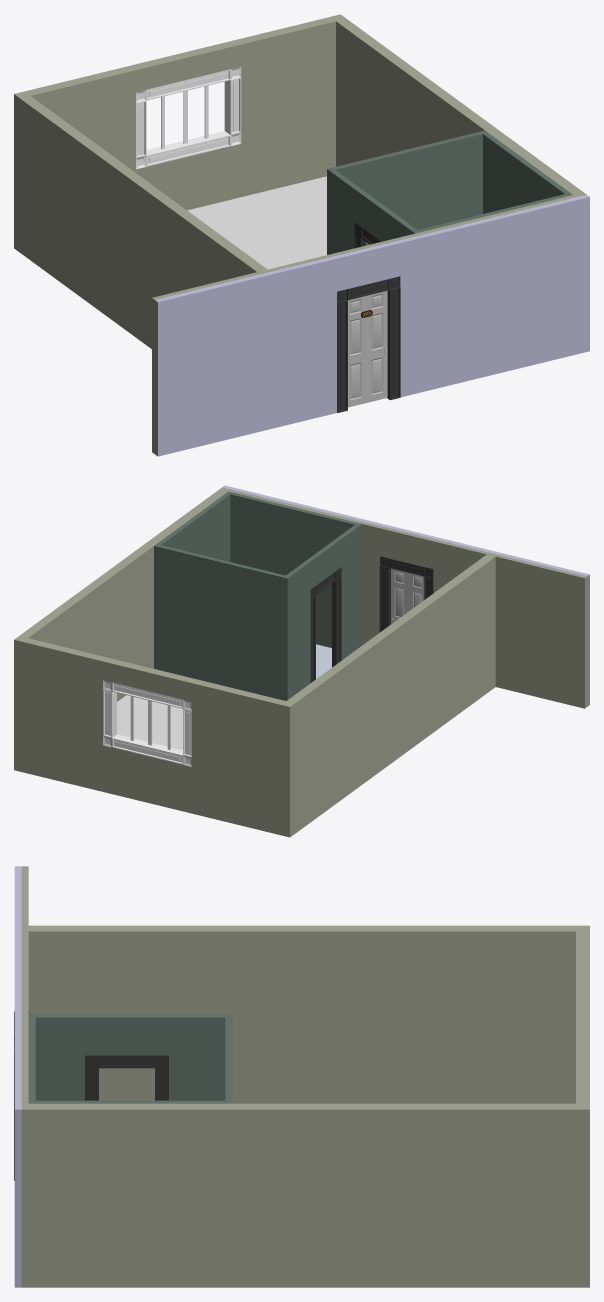
Rendered from r607_fix.fbx.
The picture shows the model from 3 angles, top to bottom: view 1: azimuth 30°, elevation 25°; view 2: azimuth 150°, elevation 25°; view 3: azimuth 270°, elevation 25°; orthographic projection. The views are drawn at different scales.
Visible parts, largest first — view 1: room_wall3.011, room_wall2.011, room_wall1.015, hall_middlewall.007, room_wall4.011, bath_wall.011, room_floor.011, room_doorframe1.011, Door607, room_doorframe3.011, bath_wall3.011, room_doorframe2.011 (+2 smaller); view 2: room_wall3.011, room_wall2.011, bath_wall.011, hall_middlewall.007, room_wall4.011, bath_wall2.011, room_doorframe1.011, bath_doorframe1.011, bath_wall3.011, bath_doorframe3.011, room_floor.011, bath_doorframe2.011 (+3 smaller); view 3: room_wall4.011, room_wall2.011, bath_doorframe1.011, room_wall3.011, room_wall1.015, bath_doorframe2.011, bath_doorframe3.011, hall_middlewall.007, room_doorframe1.011, bath_wall3.011, bath_wall.011, bath_wall2.011.
Boxes of the visible parts, <box> form: room_wall3.011: <box>25,14,346,210</box>; room_wall2.011: <box>14,91,267,348</box>; room_wall1.015: <box>415,192,589,392</box>; hall_middlewall.007: <box>152,259,315,456</box>; room_wall4.011: <box>336,19,583,194</box>; bath_wall.011: <box>327,130,487,254</box>; room_floor.011: <box>187,176,326,269</box>; room_doorframe1.011: <box>310,233,421,307</box>; Door607: <box>348,290,387,407</box>; room_doorframe3.011: <box>387,282,421,400</box>; bath_wall3.011: <box>483,133,569,213</box>; room_doorframe2.011: <box>316,300,347,417</box>; room_wall3.011: <box>14,636,285,835</box>; room_wall2.011: <box>281,554,495,837</box>; bath_wall.011: <box>154,544,290,700</box>; hall_middlewall.007: <box>451,542,589,708</box>; room_wall4.011: <box>19,489,227,701</box>; bath_wall2.011: <box>226,491,357,647</box>; room_doorframe1.011: <box>362,520,455,582</box>; bath_doorframe1.011: <box>286,523,362,613</box>; bath_wall3.011: <box>157,493,230,561</box>; bath_doorframe3.011: <box>332,561,362,667</box>; room_floor.011: <box>117,695,183,750</box>; bath_doorframe2.011: <box>290,595,315,697</box>; room_wall4.011: <box>28,1103,575,1287</box>; room_wall2.011: <box>28,925,589,1103</box>; bath_doorframe1.011: <box>28,1014,225,1068</box>; room_wall3.011: <box>576,931,589,1287</box>; room_wall1.015: <box>14,1014,28,1287</box>; bath_doorframe2.011: <box>155,1068,225,1100</box>; bath_doorframe3.011: <box>35,1068,98,1100</box>; hall_middlewall.007: <box>14,866,28,955</box>; room_doorframe1.011: <box>14,955,29,1053</box>; bath_wall3.011: <box>35,1100,225,1103</box>; bath_wall.011: <box>225,1014,232,1103</box>; bath_wall2.011: <box>28,1017,35,1103</box>.
Size of the model in its own units: 828 by 283 by 829.
